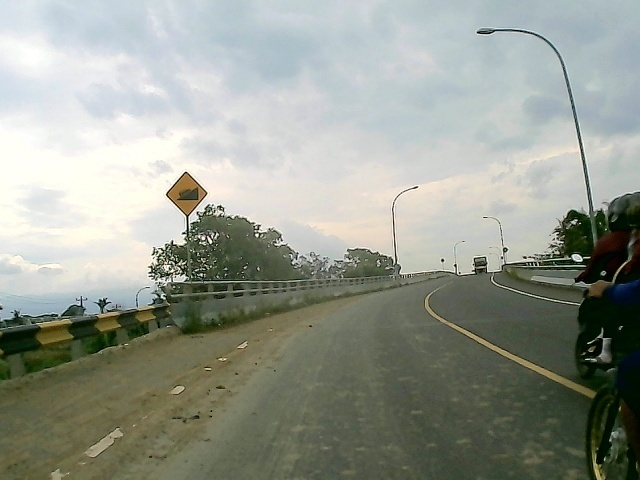Jalanan menanjak: (158, 166, 211, 216)
